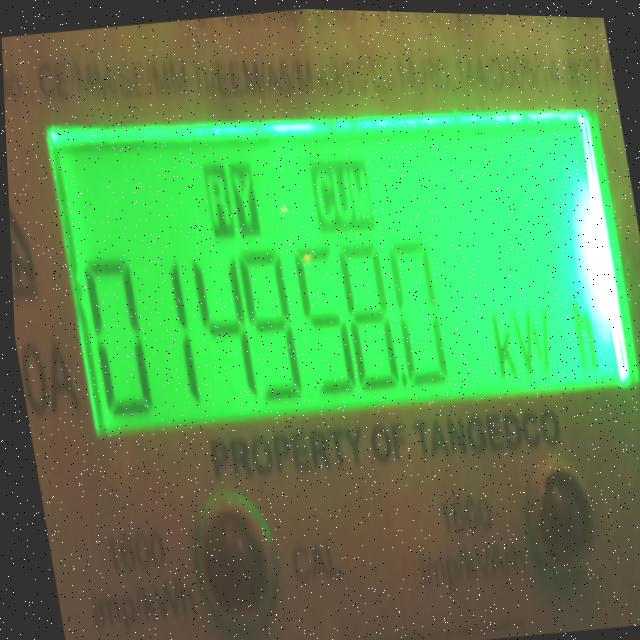.: (396, 365, 405, 386)
0: (79, 256, 151, 417), (383, 235, 446, 384)
1: (162, 258, 198, 401)
4: (188, 251, 255, 400)
5: (290, 241, 355, 396)
8: (335, 239, 398, 386)
9: (234, 246, 300, 402)
